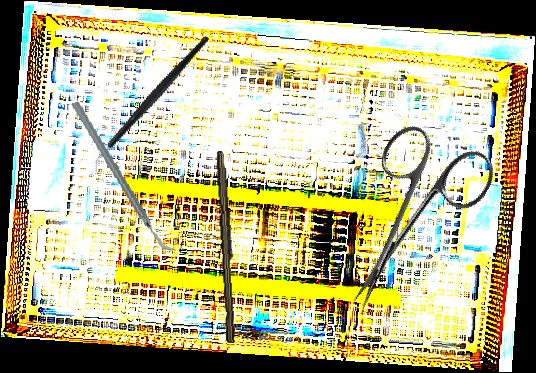Chopper: (60, 34, 241, 177), (70, 91, 177, 263)
Iris Scissors: (311, 111, 502, 335)
Scalpel Handle: (213, 150, 241, 344)
